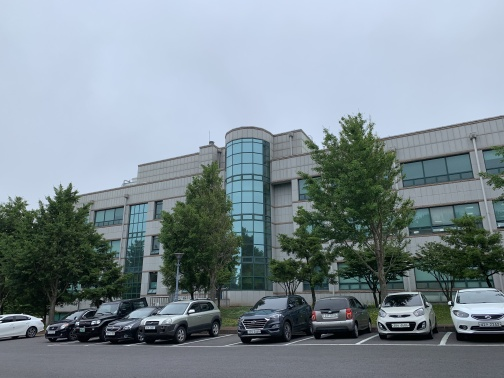Second Library: (91, 112, 504, 304)
